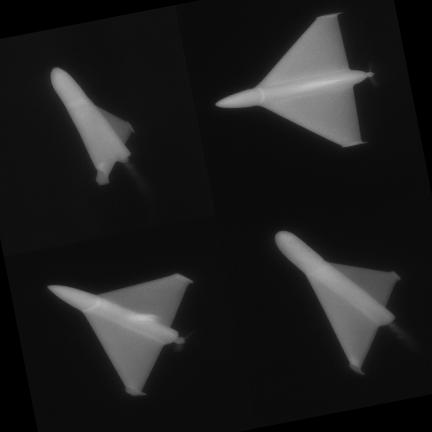Shahed: (216, 13, 374, 147), (275, 231, 400, 374), (48, 274, 192, 396), (51, 68, 133, 185)
